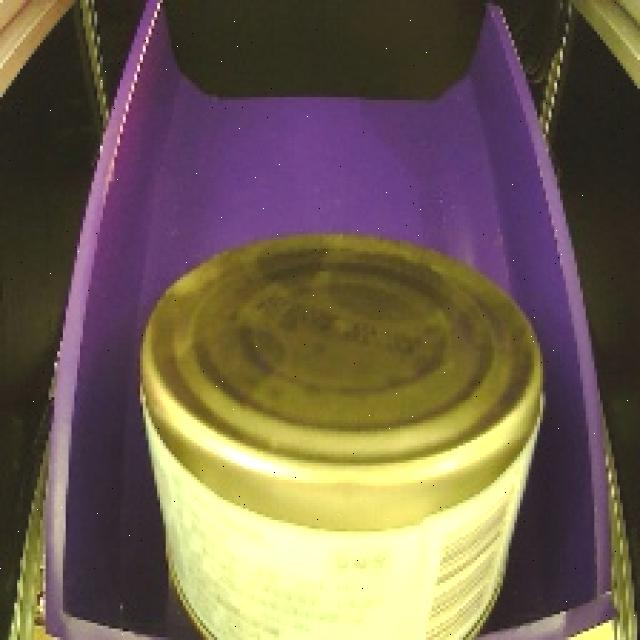metal: (120, 210, 570, 640)
